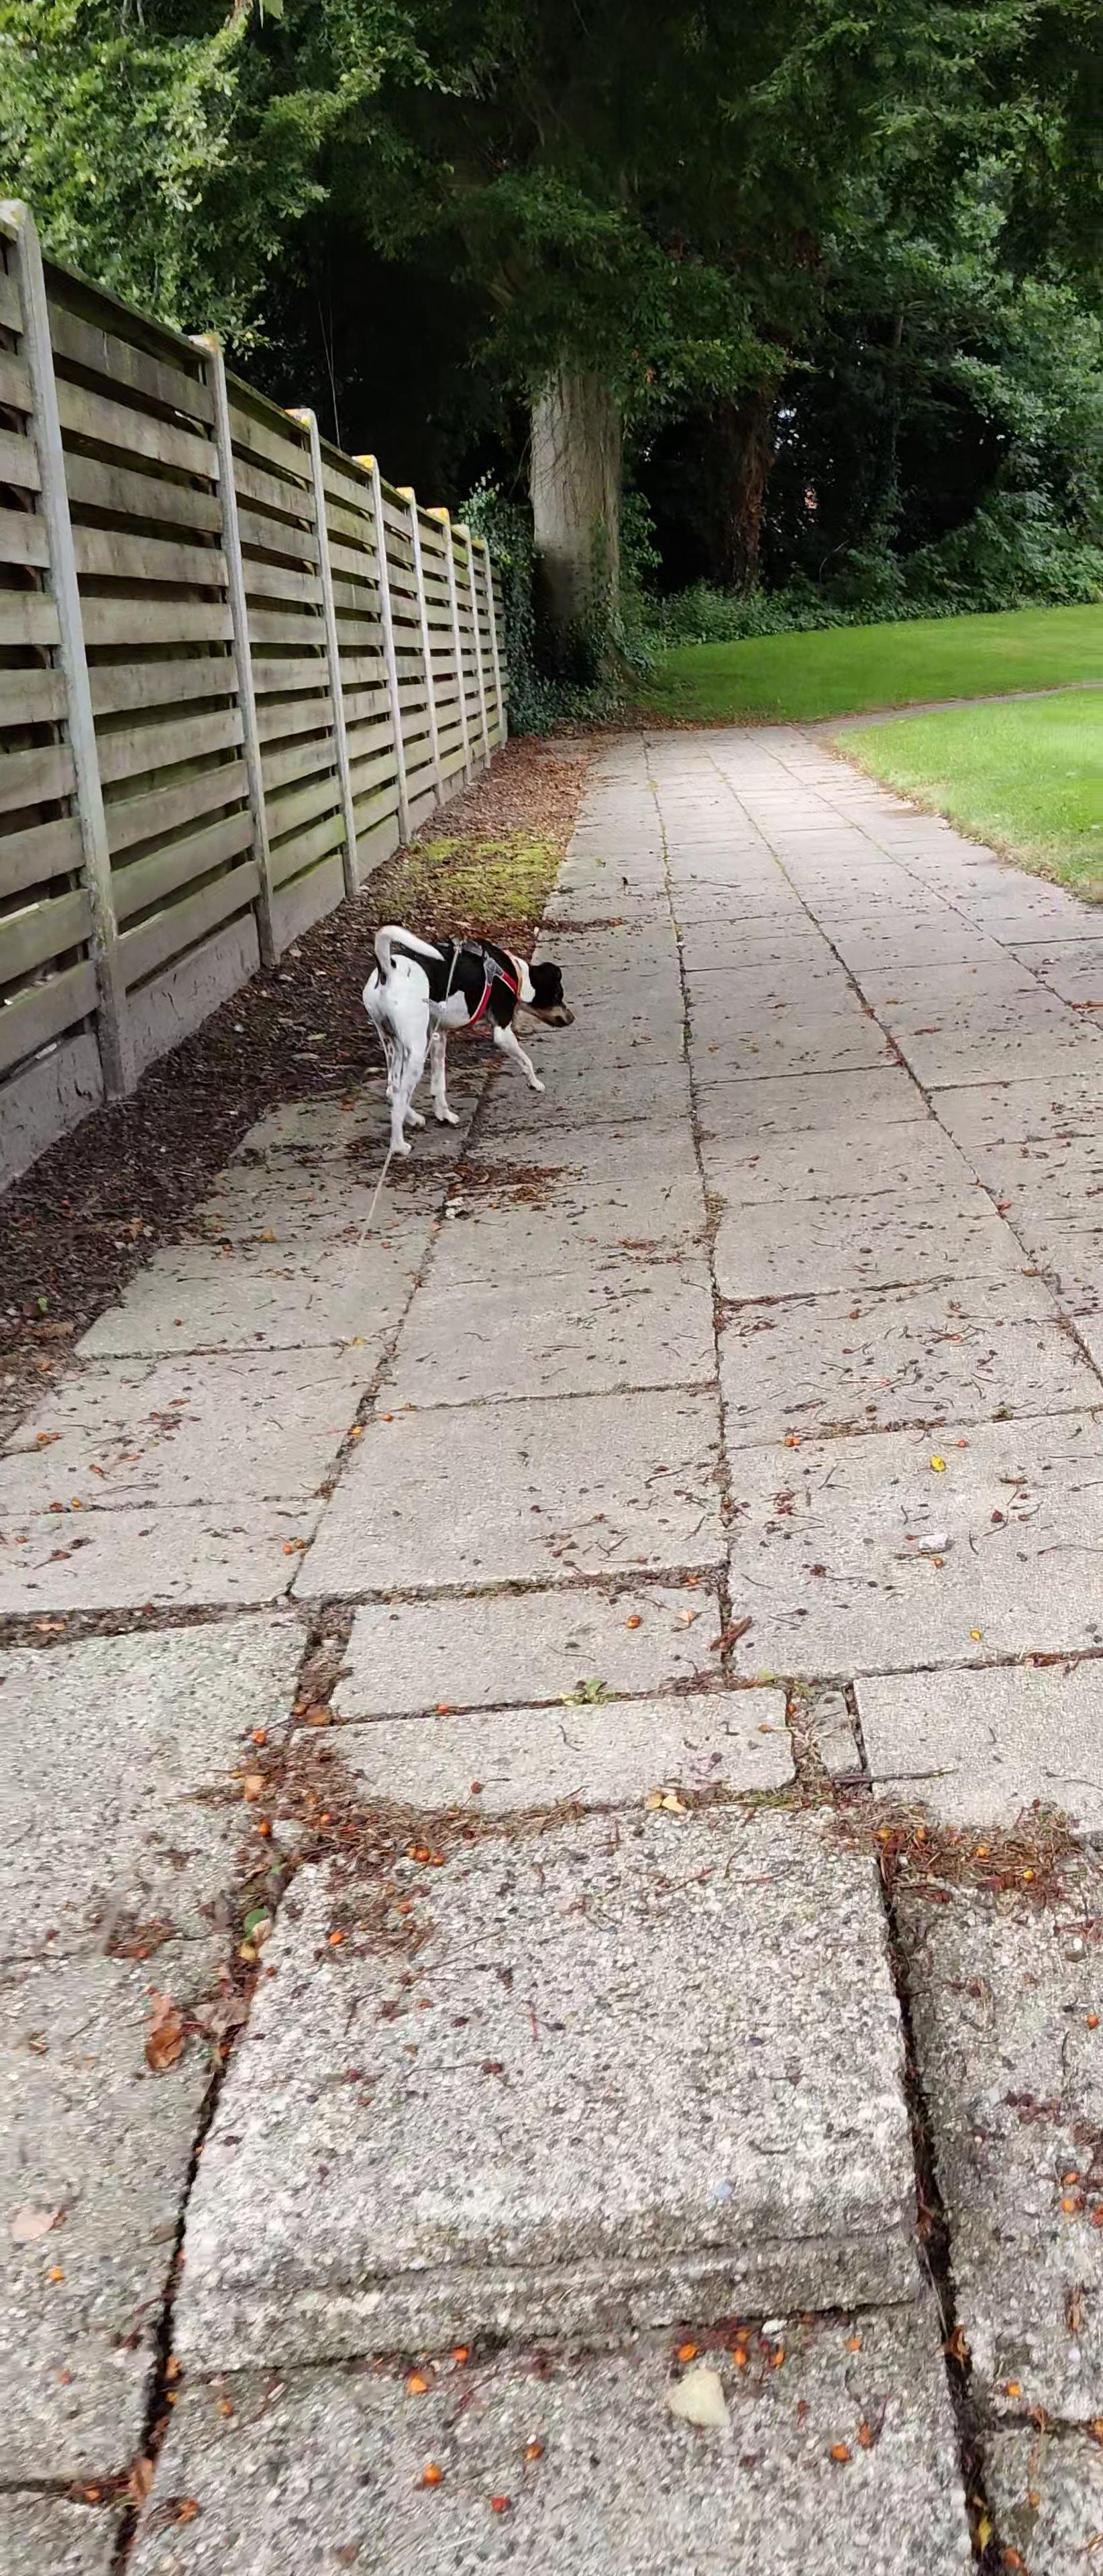Dog: (348, 902, 580, 1160)
